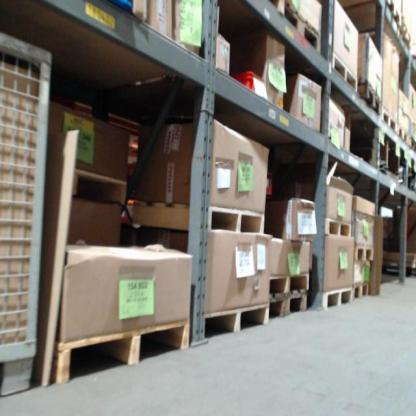pallet: (51, 318, 192, 385), (129, 197, 268, 236), (65, 162, 133, 209), (203, 300, 273, 339), (282, 5, 321, 53), (265, 290, 308, 322), (312, 284, 355, 315), (330, 49, 359, 88), (266, 268, 310, 293), (359, 78, 384, 119), (311, 217, 352, 239), (376, 1, 403, 33), (379, 105, 399, 137), (352, 245, 375, 264), (397, 122, 410, 149), (353, 281, 369, 299)
small_load_carrier: (233, 71, 263, 94)
stillage: (0, 30, 52, 394)
